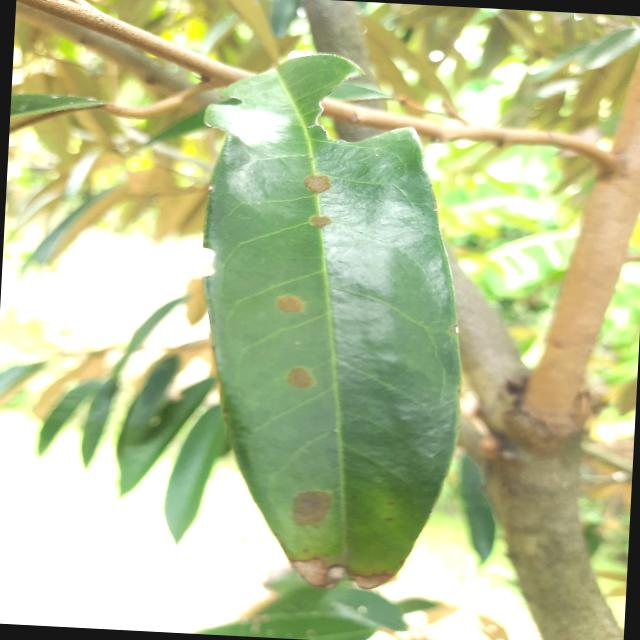Algal Leaf Spot: (176, 43, 475, 604)
